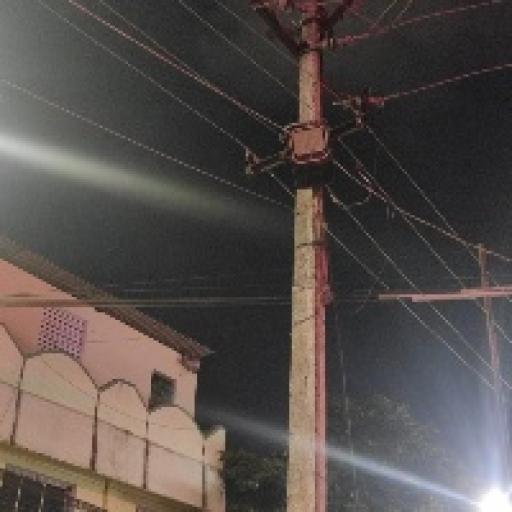Not Working: (270, 112, 352, 186)
Working: (460, 475, 512, 512)
